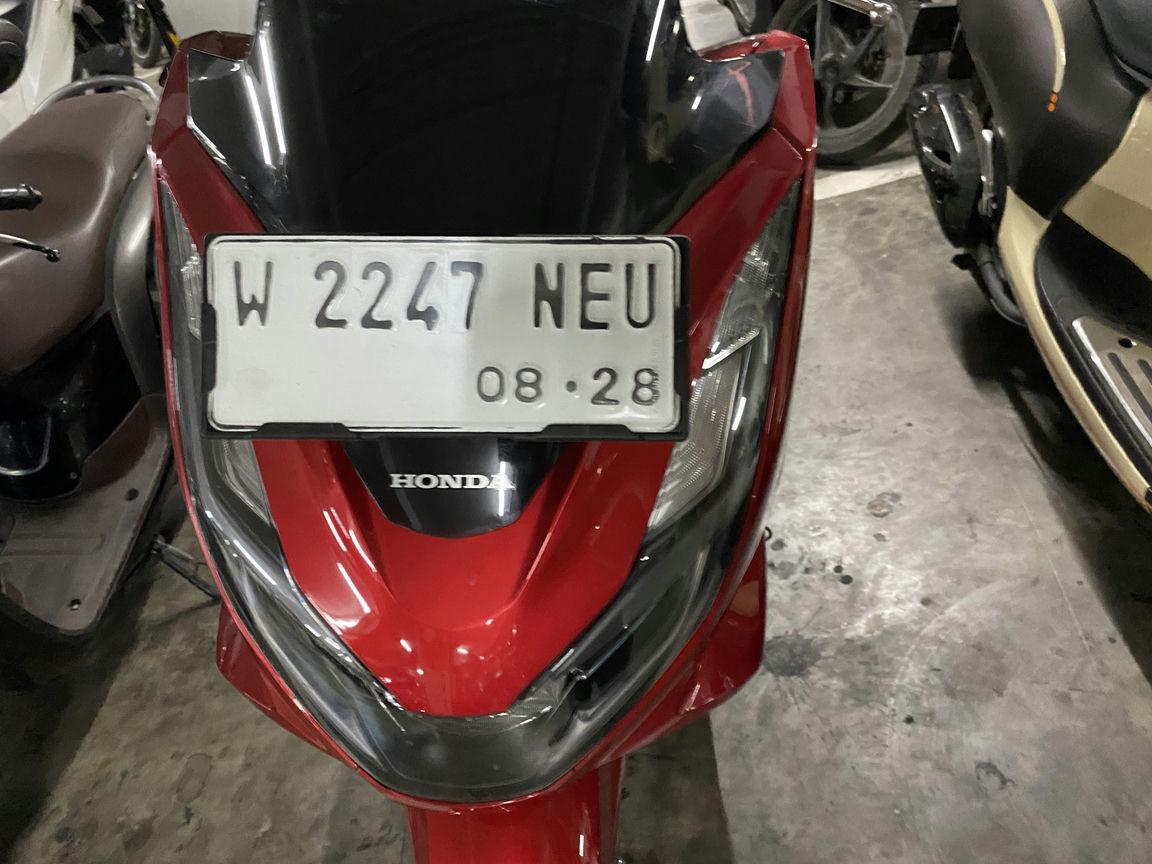plat: (200, 234, 686, 441)
